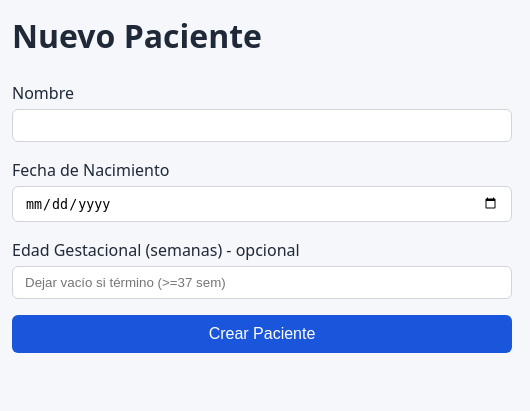
it: PatientCreatePage › muestra error si se envía sin nombre
Click the button "Crear Paciente": (262,334) [12, 315, 512, 353]
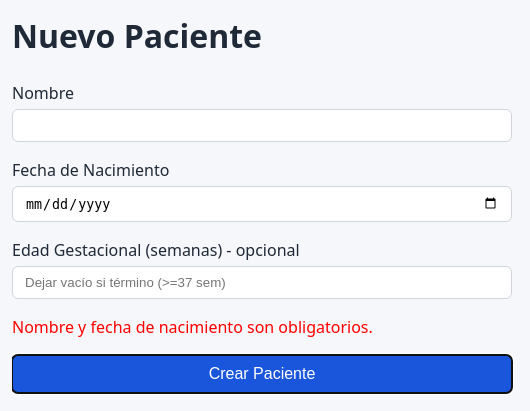
expect the text "Nombre y fecha de nacimiento son obligatorios." is shown: met, box [12, 316, 373, 338]
